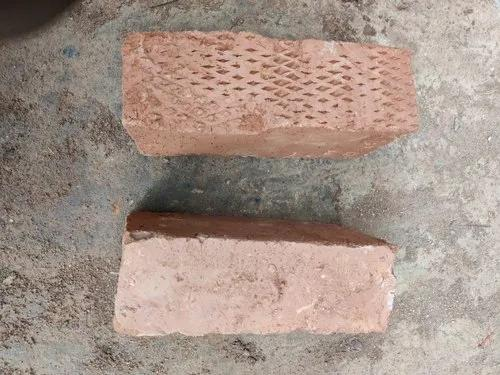brick: (114, 235, 394, 333), (122, 39, 415, 129)
